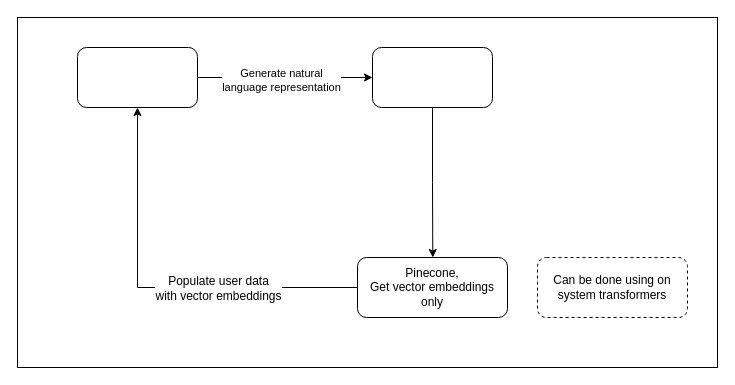
This 735x385 diagram has some shape labels left out. Each missing label, with the box of its shape:
Generate chunk_text: (372, 46, 492, 108)
UserData: (76, 46, 198, 108)
